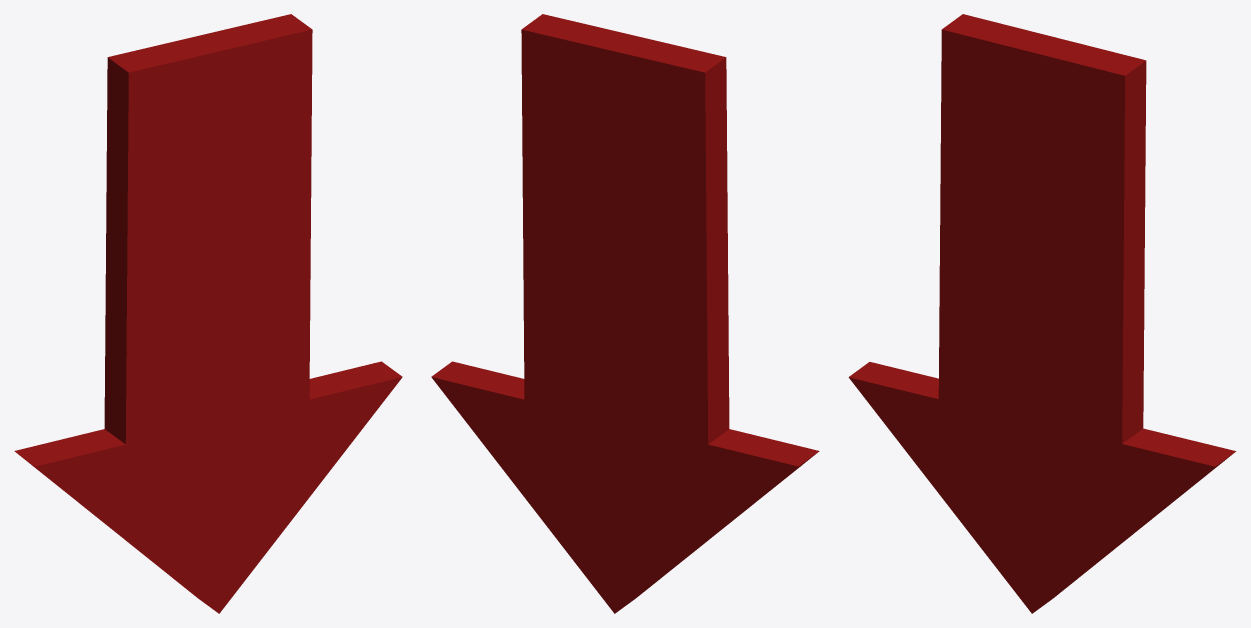
File: arrow.obj
3 views of the same model, side by side, from view 1: azimuth 30°, elevation 25°; view 2: azimuth 150°, elevation 25°; view 3: azimuth 330°, elevation 25° (orthographic).
Parts seen in each view (by area): view 1: Box, Box1; view 2: Box, Box1; view 3: Box, Box1.
Boxes of the visible parts, box(x1,y1,x2,y2) form: Box: box(104, 14, 312, 457); Box1: box(14, 361, 402, 613); Box: box(521, 14, 729, 457); Box1: box(431, 361, 819, 613); Box: box(938, 14, 1146, 443); Box1: box(848, 362, 1236, 613).
Bounding box in the file's own units: 1 × 1.47 × 0.1.
